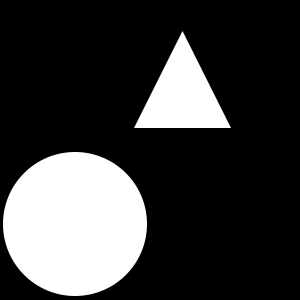rectangle: (3, 152, 147, 296), (172, 52, 186, 66)
triangle: (134, 31, 231, 128)
